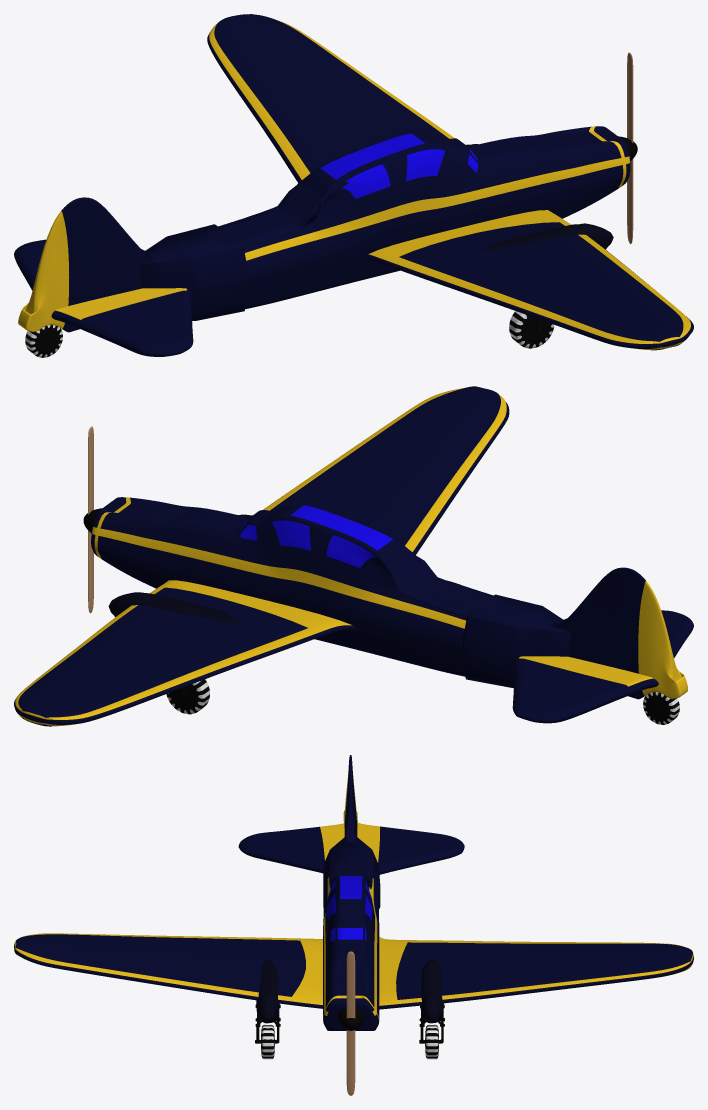
Rendered from Projekt.fbx.
3 views of the same model, one above another, from view 1: azimuth 30°, elevation 25°; view 2: azimuth 150°, elevation 25°; view 3: azimuth 270°, elevation 25° (orthographic). The views are drawn at different scales.
Parts seen in each view (by area): view 1: kadłub, szkrzydła, ogon, podwozie, Sphere, kolko; view 2: kadłub, szkrzydła, ogon, podwozie, Sphere, kolko; view 3: szkrzydła, kadłub, ogon, podwozie, Sphere.
Part boxes in pixels (left/top/right/bottom): kadłub: left=18, top=126, right=630, bottom=332; szkrzydła: left=207, top=14, right=693, bottom=350; ogon: left=14, top=239, right=193, bottom=356; podwozie: left=466, top=144, right=613, bottom=348; Sphere: left=618, top=52, right=637, bottom=244; kolko: left=25, top=325, right=62, bottom=357; kadłub: left=91, top=497, right=687, bottom=699; szkrzydła: left=14, top=386, right=509, bottom=726; ogon: left=512, top=610, right=693, bottom=723; podwozie: left=108, top=514, right=252, bottom=714; Sphere: left=83, top=426, right=101, bottom=613; kolko: left=643, top=692, right=679, bottom=724; szkrzydła: left=14, top=933, right=693, bottom=1009; kadłub: left=323, top=755, right=380, bottom=1030; ogon: left=238, top=822, right=464, bottom=874; podwozie: left=255, top=958, right=444, bottom=1059; Sphere: left=338, top=951, right=363, bottom=1095.
Size of the model in its own units: 269 by 90.07 by 341.
